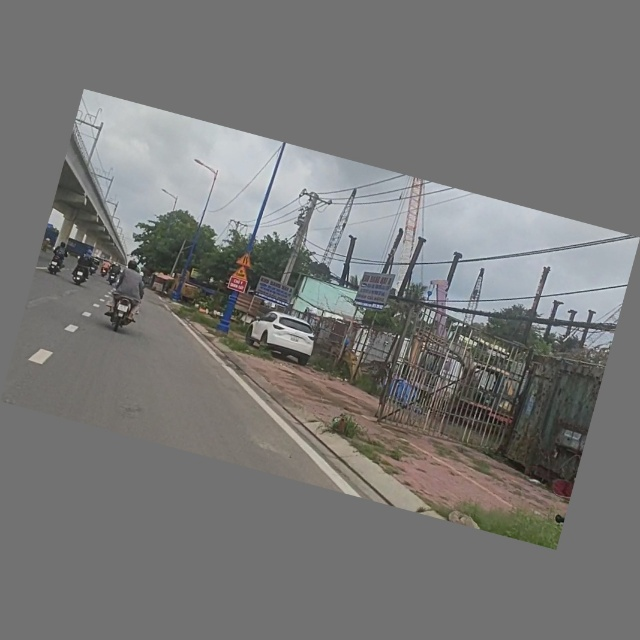W.203c: (236, 251, 254, 268)
W.245a: (231, 264, 252, 281)
